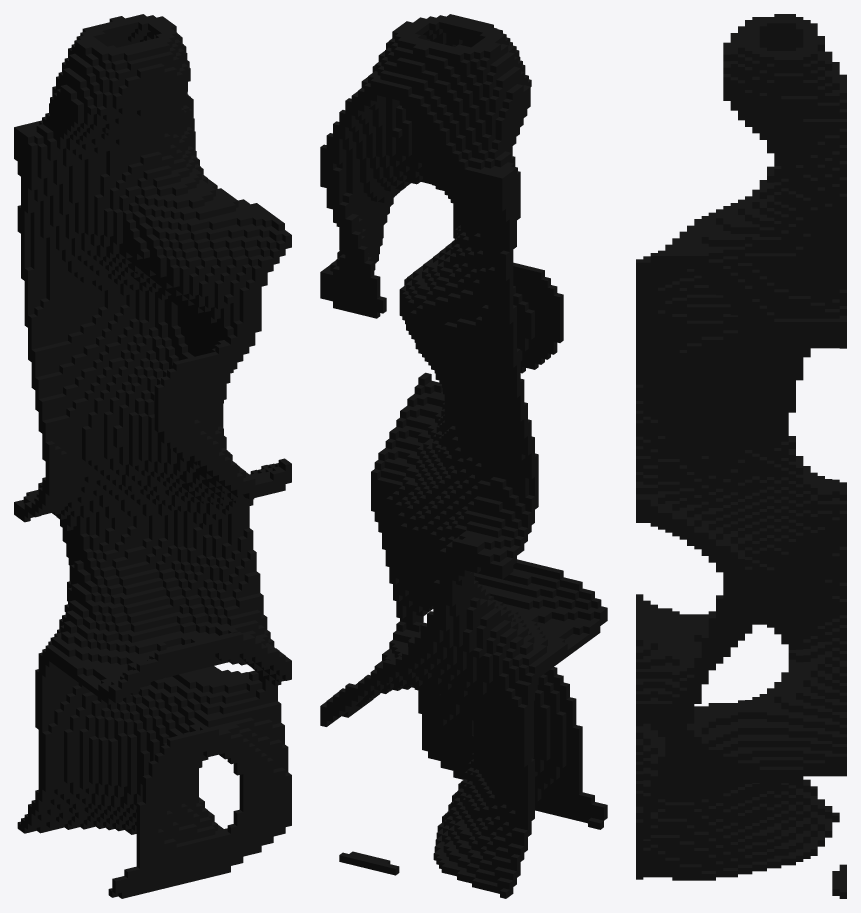
Rendered from art.obj.
3 renders of one model, left to right at view 1: azimuth 30°, elevation 25°; view 2: azimuth 150°, elevation 25°; view 3: azimuth 270°, elevation 25°, orthographic. The views are drawn at different scales.
Bounding box in the file's own units: 29 × 125 × 29.
Materials: 1 (1 with a texture image).
